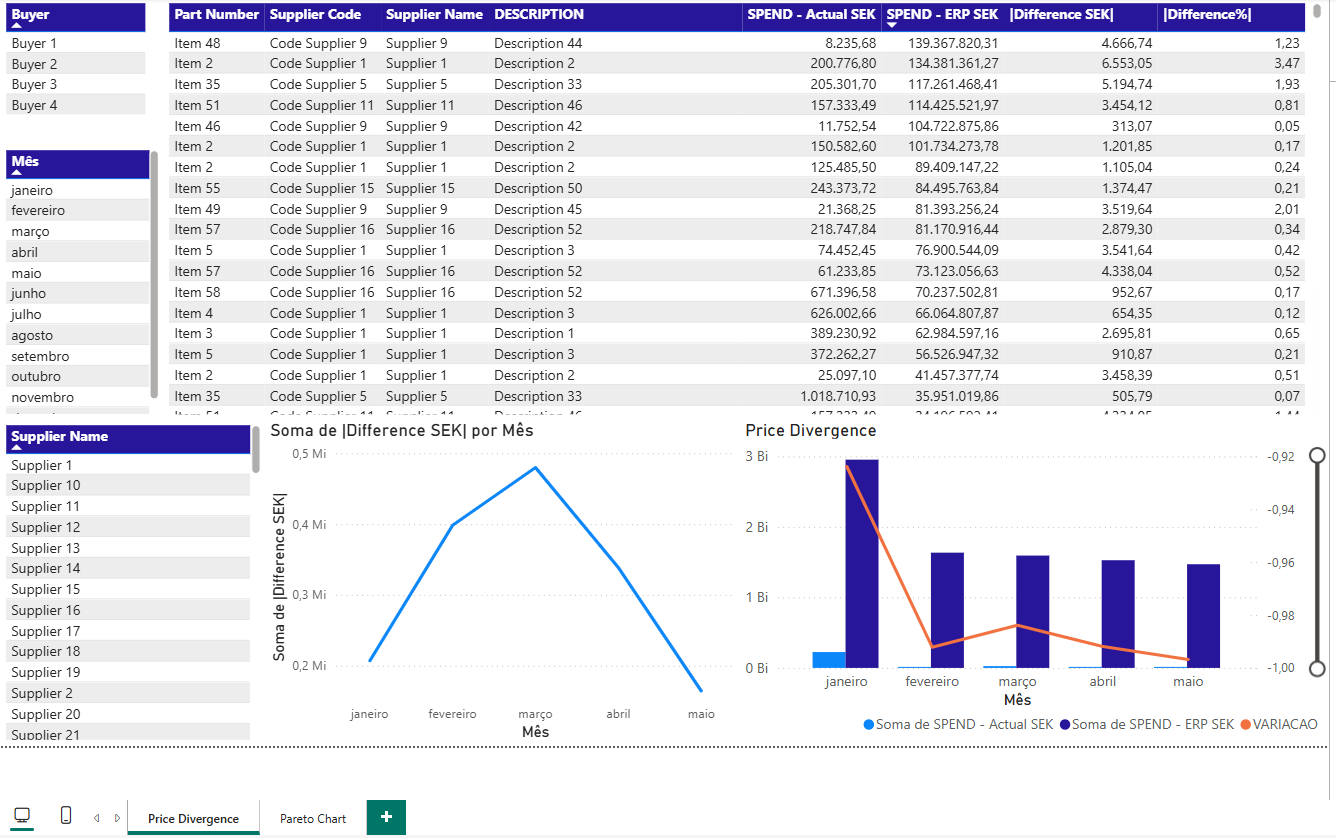

This screenshot's page, from the dashboard's own definition file:
{"tool":"powerbi","page":{"name":"Price Divergence","canvas":[1280,720],"ordinal":0},"visuals":[{"type":"lineClusteredColumnComboChart","title":"Price Divergence","fields":{"Y2":["select"],"Category":["PD (2).Month/2026.Variation.Hierarquia de datas.Mês"],"Y":["Sum(PD (2).SPEND - Actual SEK)","Sum(PD (2).SPEND - ERP SEK)"]},"box":[712.3,405.8,566.5,313.1],"z":0},{"type":"tableEx","box":[411.6,228.1,144.6,103.8],"z":1000},{"type":"lineChart","fields":{"Category":["PD (2).Month/2026.Variation.Hierarquia de datas.Mês"],"Y":["Sum(PD (2).|Difference SEK|)"]},"box":[255.1,405.8,457.2,314.7],"z":2000},{"type":"tableEx","fields":{"Values":["PD (2).Part Number","PD (2).Supplier Code","PD (2).Supplier Name","PD (2).DESCRIPTION","Sum(PD (2).SPEND - Actual SEK)","Sum(PD (2).SPEND - ERP SEK)","PD (2).|Difference SEK|","PD (2).|Difference%|"]},"box":[157.4,0,1121.4,405.8],"z":3000},{"type":"tableEx","fields":{"Values":["PD (2).Supplier Name"]},"box":[0,406.1,255.9,313.4],"z":4000},{"type":"tableEx","fields":{"Values":["PD (2).Buyer"]},"box":[0,0,157,135],"z":5000},{"type":"tableEx","fields":{"Values":["PD (2).Month/2026.Variation.Hierarquia de datas.Mês"]},"box":[0,142,158,264],"z":6000}]}

Visuals, with their boxes on the page's 1280x720 design canvas (x1, y1, x2, y2). These are canvas units, not pixel positions in the 1336x838 screenshot, which may show the page scaled, cropped or inside an application window:
"Price Divergence" lineClusteredColumnComboChart: detection(712, 406, 1279, 719)
tableEx: detection(412, 228, 556, 332)
lineChart - PD (2).Month/2026.Variation.Hierarquia de datas.Mês x Sum(PD (2).|Difference SEK|): detection(255, 406, 712, 720)
tableEx - PD (2).Part Number x PD (2).Supplier Code: detection(157, 0, 1279, 406)
tableEx - PD (2).Supplier Name: detection(0, 406, 256, 720)
tableEx - PD (2).Buyer: detection(0, 0, 157, 135)
tableEx - PD (2).Month/2026.Variation.Hierarquia de datas.Mês: detection(0, 142, 158, 406)
